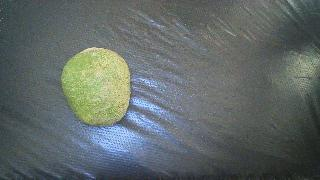DESECHO: (61, 47, 130, 126)
